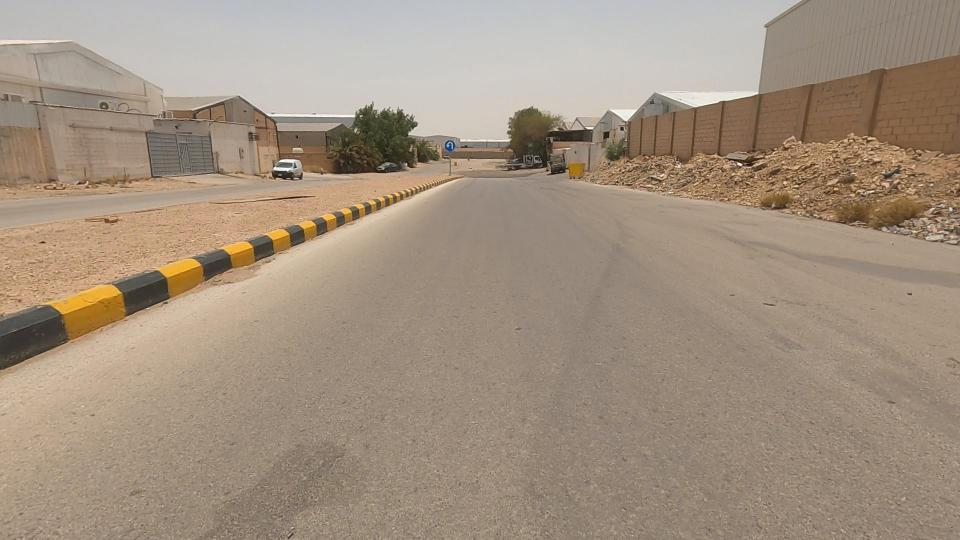CLUTTER_SIDEWALK: (13, 180, 245, 297), (175, 161, 424, 241)
